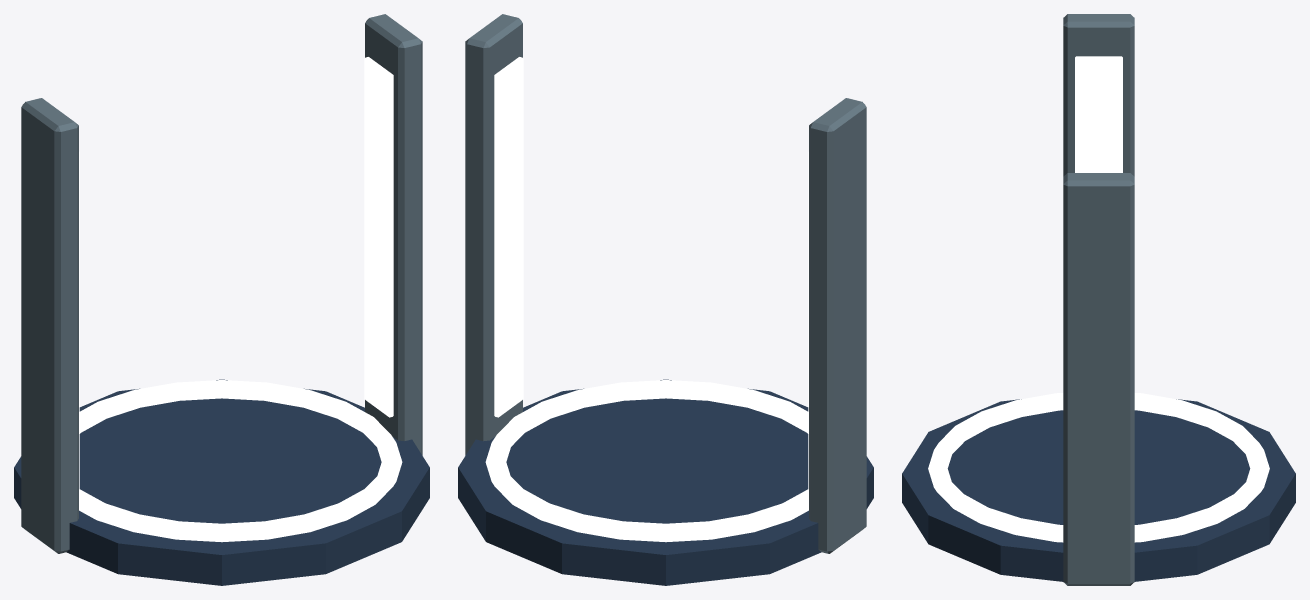
File: props-teleporter.lod0.glb
3 renders of one model, left to right at view 1: azimuth 30°, elevation 25°; view 2: azimuth 150°, elevation 25°; view 3: azimuth 270°, elevation 25°, orthographic. The views are drawn at different scales.
Visible parts, largest first — view 1: props-teleporter__body; view 2: props-teleporter__body; view 3: props-teleporter__body.
Boxes of the visible parts, x1,y1,x2,y2 form: props-teleporter__body: (14,14,429,585); props-teleporter__body: (458,14,873,585); props-teleporter__body: (902,14,1295,585).
Bounding box in the file's own units: 2.25 × 2.5 × 2.2.
